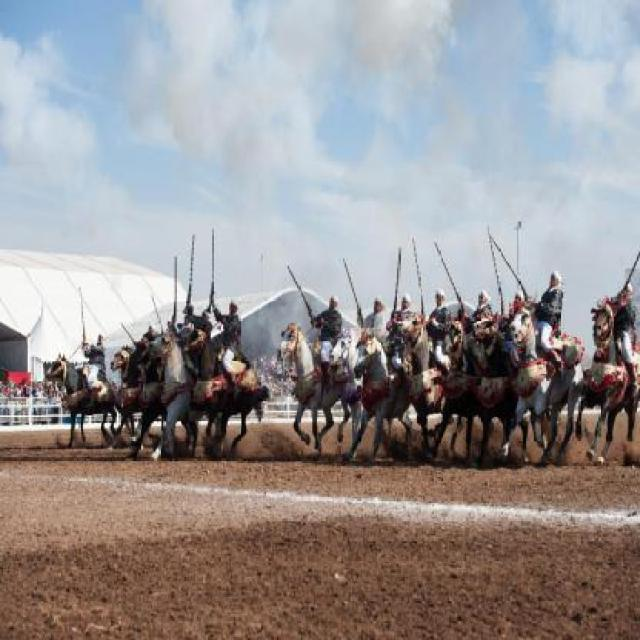Person: (0, 271, 638, 394), (210, 297, 242, 392)
